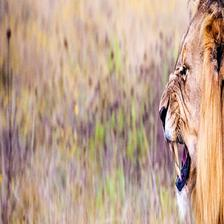Lion: (158, 0, 223, 219)
